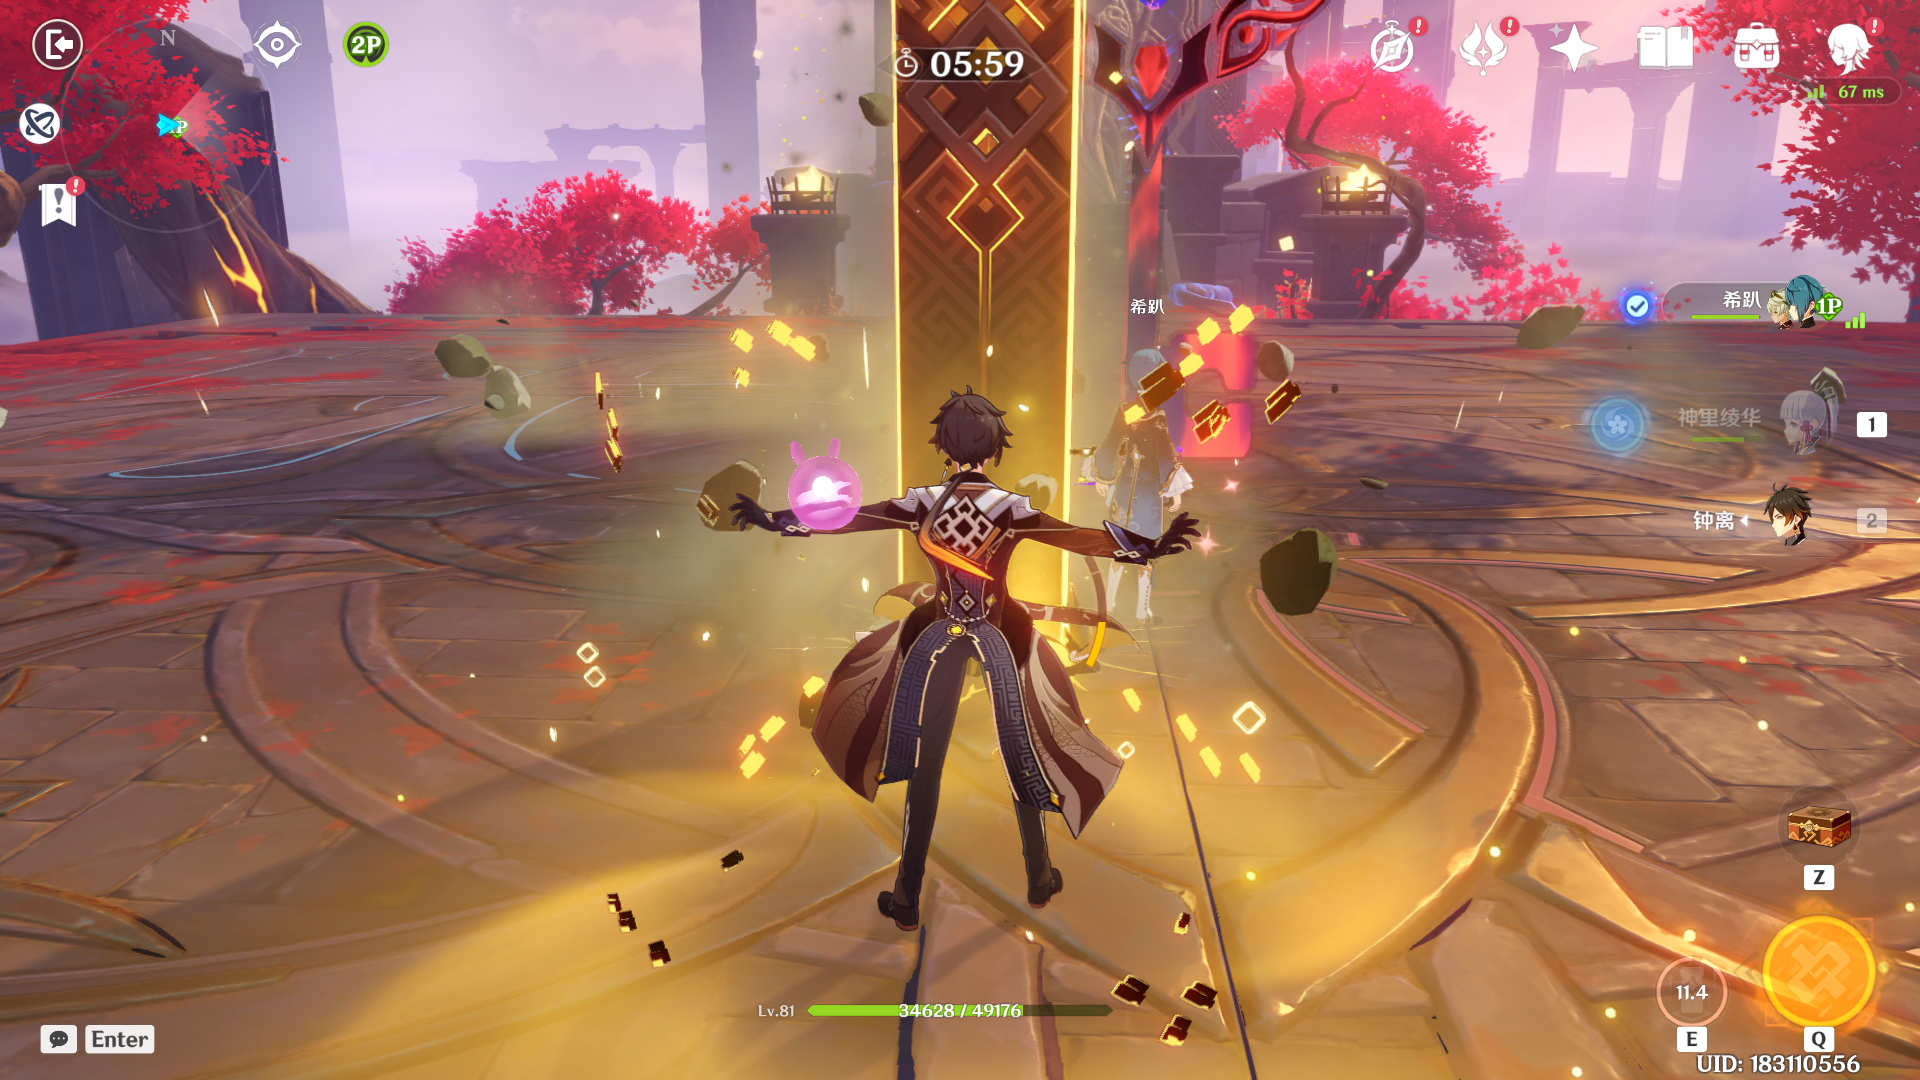character: (748, 371, 1216, 956), (1065, 339, 1225, 665)
